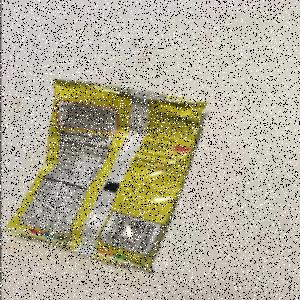Trash: (4, 78, 210, 276)
